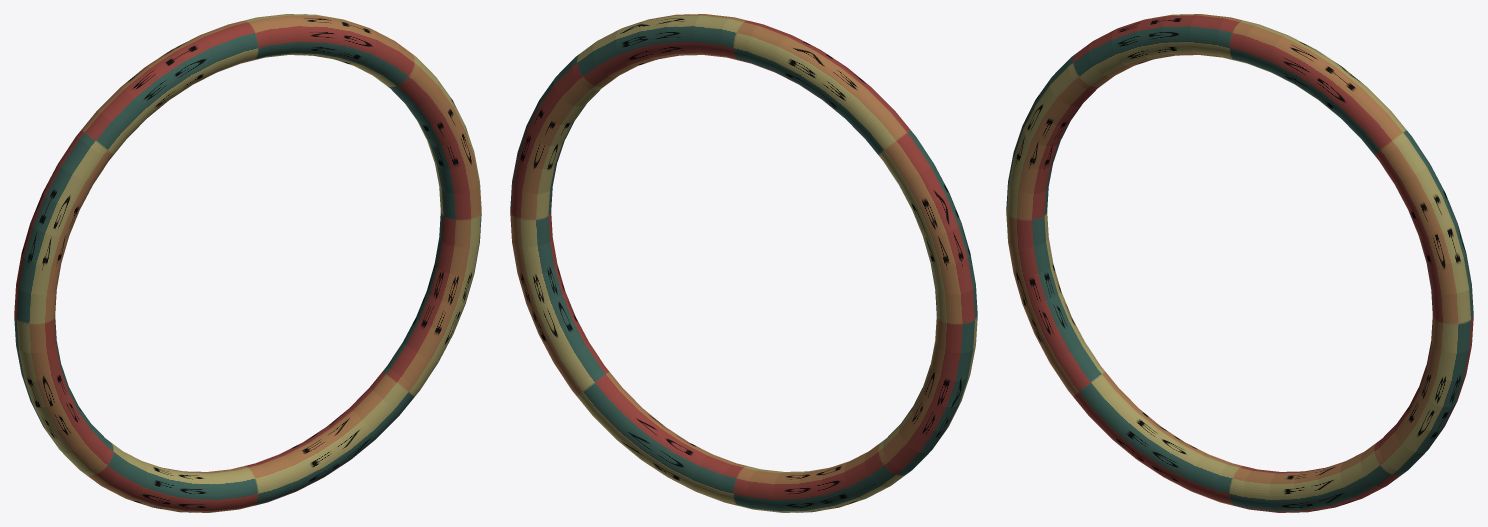
The model's file is texture_torus_R21_r0.glb.
3 renders of one model, left to right at view 1: azimuth 30°, elevation 25°; view 2: azimuth 150°, elevation 25°; view 3: azimuth 330°, elevation 25°, orthographic.
Parts seen in each view (by area): view 1: world; view 2: world; view 3: world.
Part boxes in pixels (x1=…): world: x1=14, y1=14, x2=481, y2=512; world: x1=510, y1=14, x2=977, y2=512; world: x1=1006, y1=14, x2=1473, y2=512.
Bounding box in the file's own units: 26 × 25.95 × 2.
1 material, 1 textured.
